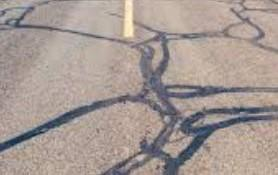alligator-crack: (0, 3, 278, 175)
